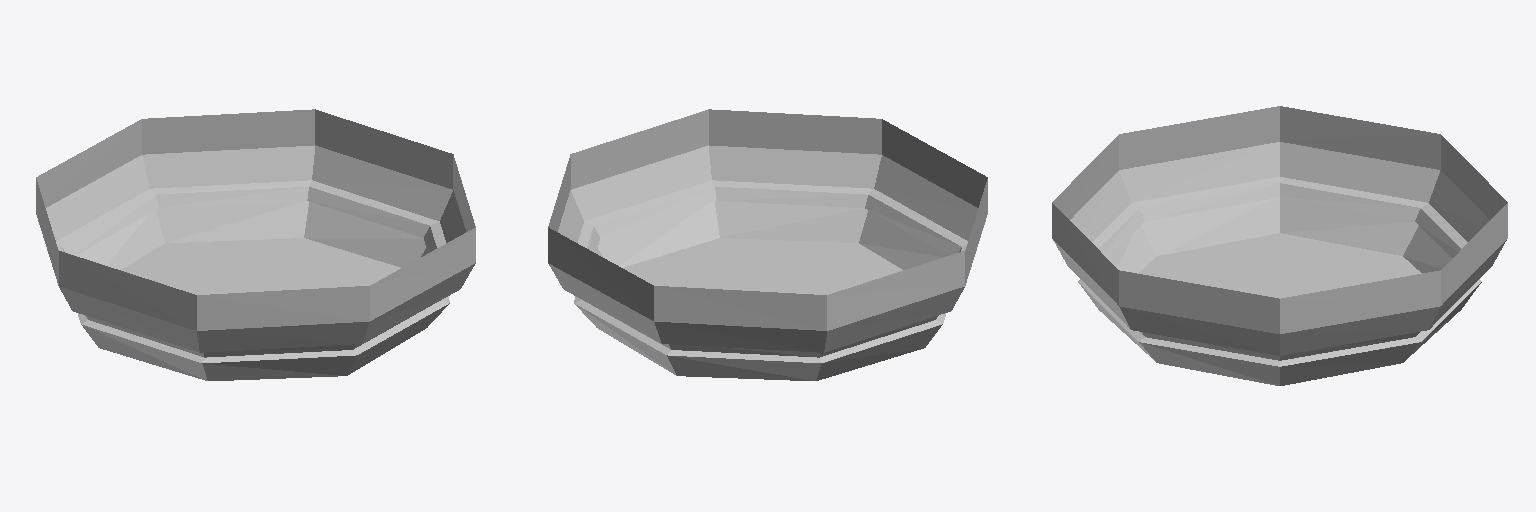
The model's file is 无标题.obj.
3 views of the same model, side by side, from view 1: azimuth 30°, elevation 25°; view 2: azimuth 150°, elevation 25°; view 3: azimuth 270°, elevation 25° (orthographic).
Visible parts, largest first — view 1: Retopo_Cylinder_mesh; view 2: Retopo_Cylinder_mesh; view 3: Retopo_Cylinder_mesh.
Boxes of the visible parts, <box> form: Retopo_Cylinder_mesh: <box>36,109,475,380</box>; Retopo_Cylinder_mesh: <box>548,109,987,380</box>; Retopo_Cylinder_mesh: <box>1052,106,1507,385</box>.
Size of the model in its own units: 0.4091 by 0.1064 by 0.4091.